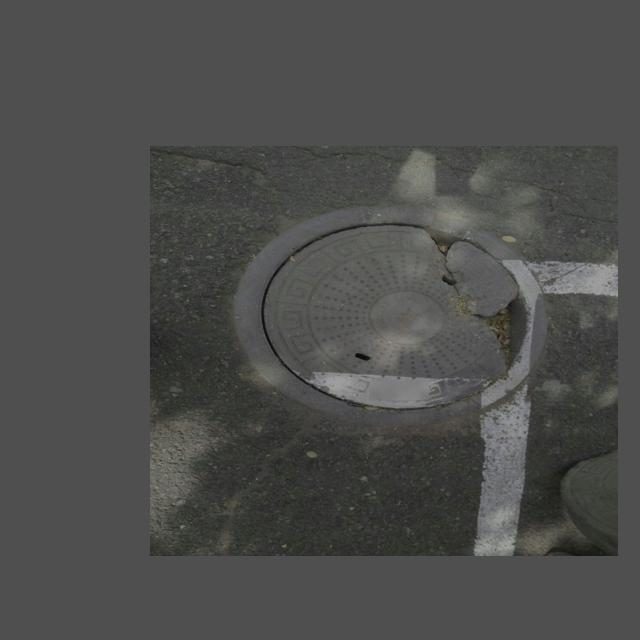broke: (234, 206, 546, 427)
